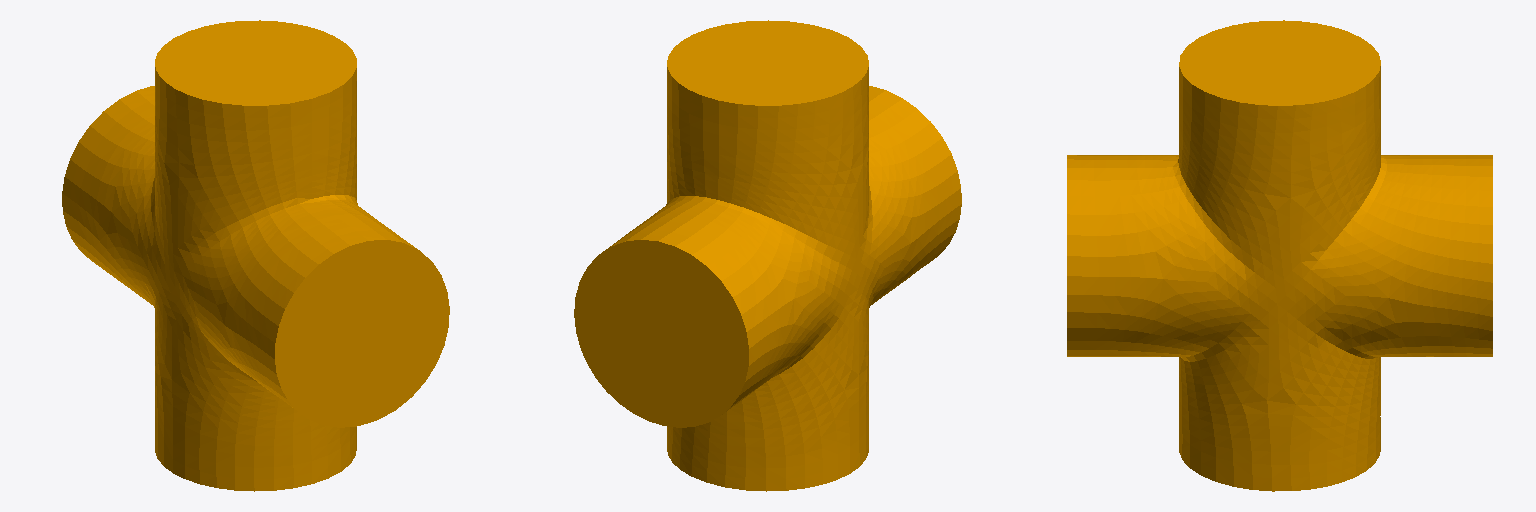
robot.urdf — object:
<robot name="object">
  <link name="object">
    <visual>
      <origin xyz="0 0 0"/>
      <geometry>
        <mesh filename="visual.obj" scale="1 1 1"/>
      </geometry>
    </visual>
    <collision>
      <origin xyz="0 0 0"/>
      <geometry>
        <mesh filename="visual.obj" scale="1 1 1"/>
      </geometry>
    </collision>
    <inertial>
      <mass value="0.05"/>
      <inertia ixx="5.262550026899866e-05" iyy="3.3111522491179264e-05" izz="3.311775881497518e-05" ixy="-3.828896635710442e-09" ixz="-1.8444517346725117e-09" iyz="-2.0652214482532403e-09"/>
    </inertial>
  </link>
</robot>

--- Render facts (derived) ---
The picture shows the robot from 3 angles, left to right: view 1: azimuth 30°, elevation 25°; view 2: azimuth 150°, elevation 25°; view 3: azimuth 270°, elevation 25°; orthographic projection.
Robot: object — 1 links, 0 joints (none); root link object; default pose: all joints at 0.
Visible links, largest first — view 1: object; view 2: object; view 3: object.
Link boxes in pixels (<box>): object: <box>62,20,449,491</box>; object: <box>574,20,961,491</box>; object: <box>1067,20,1492,491</box>.
Size in the robot's own frame: 0.0457 by 0.096 by 0.096 metres.
Meshes: 1 distinct files referenced, 1 mesh visuals loaded (1 OBJ).
